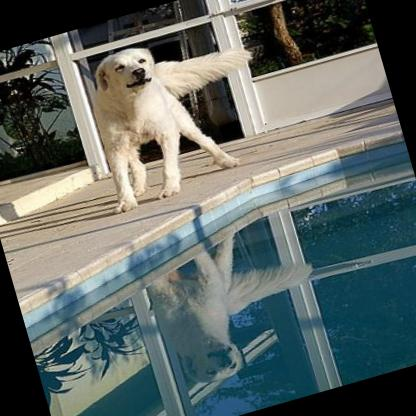Great_Pyrenees: (67, 16, 284, 218)
